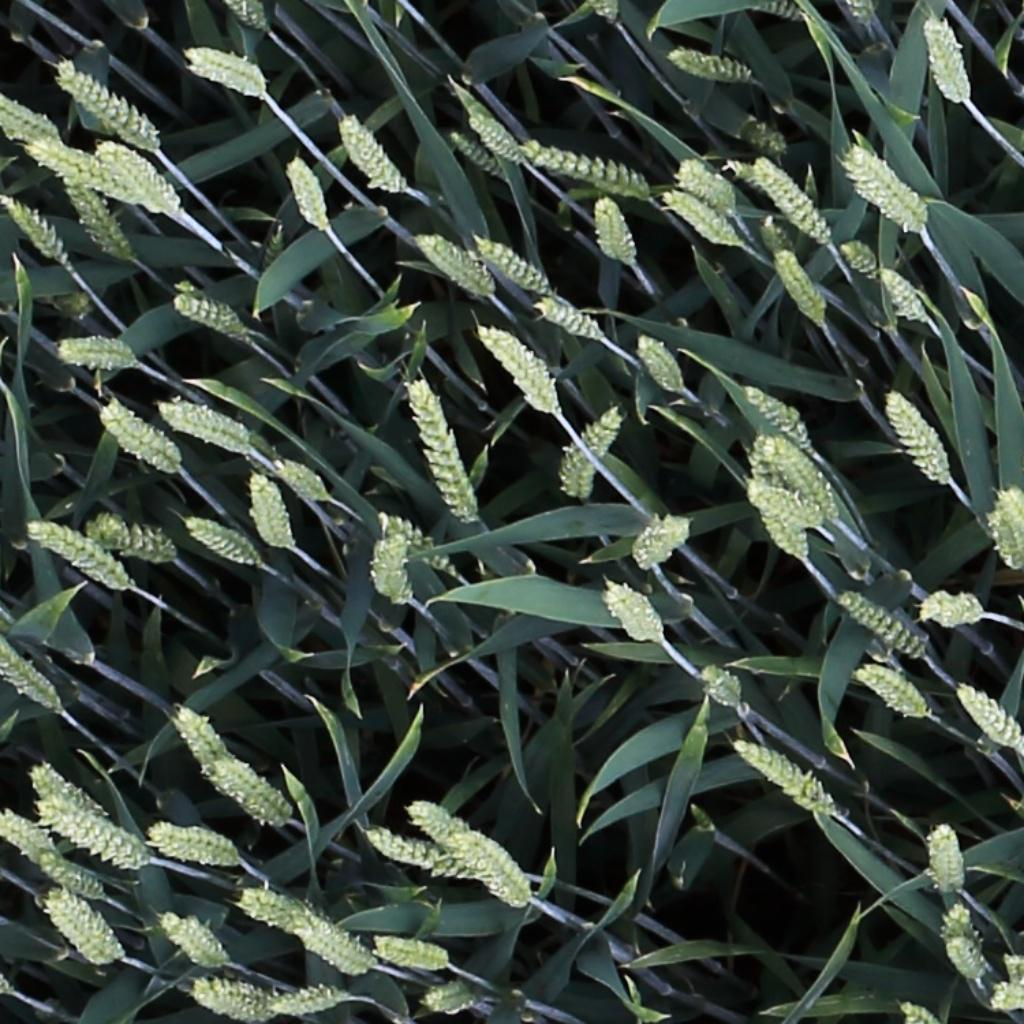0-0: (401, 374, 476, 524), (56, 57, 159, 154), (742, 436, 812, 558), (730, 741, 835, 819), (28, 136, 140, 207), (473, 322, 557, 416), (749, 154, 834, 245), (54, 165, 132, 263), (845, 143, 928, 233), (95, 137, 181, 222), (35, 801, 141, 869), (761, 432, 841, 521), (24, 521, 125, 591), (520, 139, 648, 192), (883, 387, 950, 487), (96, 404, 186, 478), (558, 404, 625, 500), (333, 109, 405, 196), (366, 825, 472, 883), (836, 591, 925, 660), (404, 799, 490, 868), (167, 703, 242, 782), (447, 834, 529, 905), (412, 230, 495, 299), (154, 400, 253, 456), (0, 185, 70, 264), (768, 243, 831, 330), (43, 891, 117, 965), (954, 682, 1024, 755), (25, 765, 111, 824), (143, 820, 238, 872), (243, 466, 299, 553), (0, 638, 62, 716), (740, 382, 811, 449), (921, 13, 970, 109), (88, 514, 176, 567), (471, 233, 548, 293), (210, 763, 286, 823), (660, 187, 737, 245), (180, 49, 267, 99), (374, 510, 447, 569), (600, 580, 663, 645), (854, 664, 928, 719), (281, 150, 330, 233), (368, 525, 417, 608), (240, 880, 311, 937), (629, 329, 686, 397), (155, 913, 223, 970), (629, 512, 694, 571), (300, 919, 368, 974), (182, 517, 258, 566), (875, 262, 932, 327), (591, 188, 636, 270), (171, 289, 251, 335), (746, 481, 820, 528), (464, 107, 525, 162), (928, 819, 967, 904), (190, 978, 270, 1019), (675, 157, 735, 210), (918, 589, 987, 635), (36, 856, 103, 903), (368, 936, 453, 972), (56, 334, 135, 371), (989, 487, 1024, 569), (664, 49, 752, 81), (1, 90, 58, 139), (264, 984, 348, 1017), (446, 128, 502, 176), (535, 296, 600, 337), (943, 906, 984, 970), (271, 460, 331, 502), (943, 925, 985, 984), (1, 812, 51, 860), (417, 979, 477, 1018), (696, 663, 742, 711), (838, 238, 880, 275), (225, 0, 268, 34), (176, 280, 217, 313), (262, 227, 284, 279), (894, 998, 935, 1024), (845, 0, 879, 31), (749, 1, 804, 20), (589, 0, 622, 30), (991, 978, 1024, 1006)
